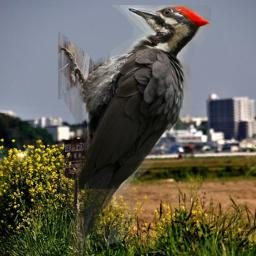Woodpecker: (58, 5, 211, 256)
